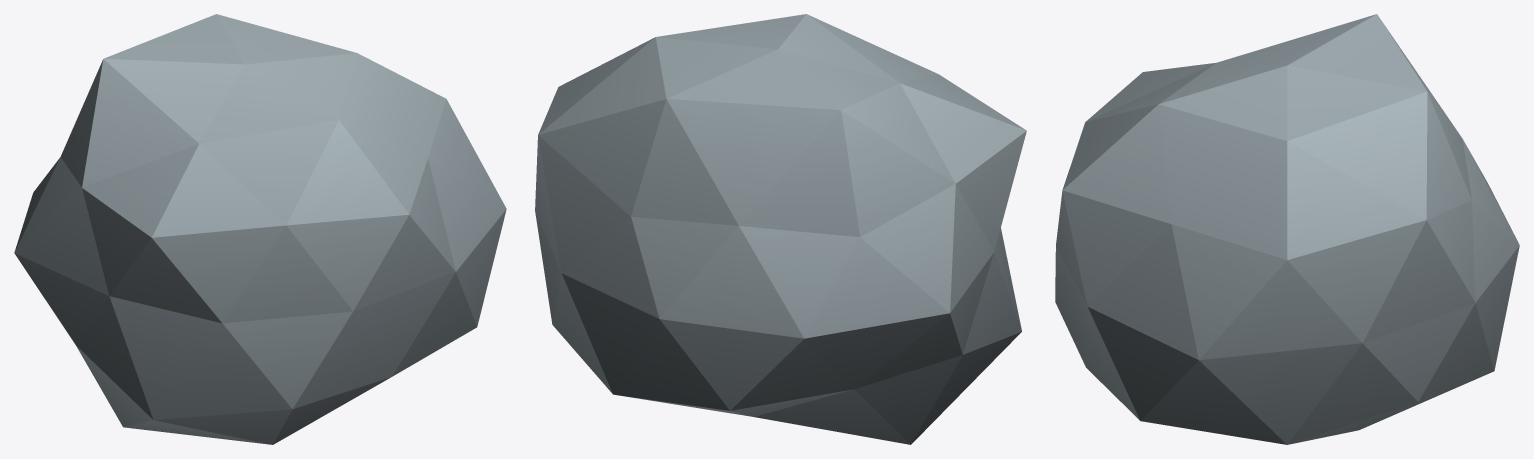
File: smoke_puff_a.glb
The picture shows the model from 3 angles, left to right: view 1: azimuth 30°, elevation 25°; view 2: azimuth 150°, elevation 25°; view 3: azimuth 270°, elevation 25°; orthographic projection. The views are drawn at different scales.
Visible parts, largest first — view 1: smoke_puff_a; view 2: smoke_puff_a; view 3: smoke_puff_a.
Boxes of the visible parts, left/top/right/bottom form: smoke_puff_a: left=14, top=14, right=506, bottom=444; smoke_puff_a: left=535, top=14, right=1026, bottom=444; smoke_puff_a: left=1055, top=14, right=1519, bottom=444.
Size of the model in its own units: 1.01 by 0.7776 by 0.9186.
Materials: 1 (1 with a texture image).
